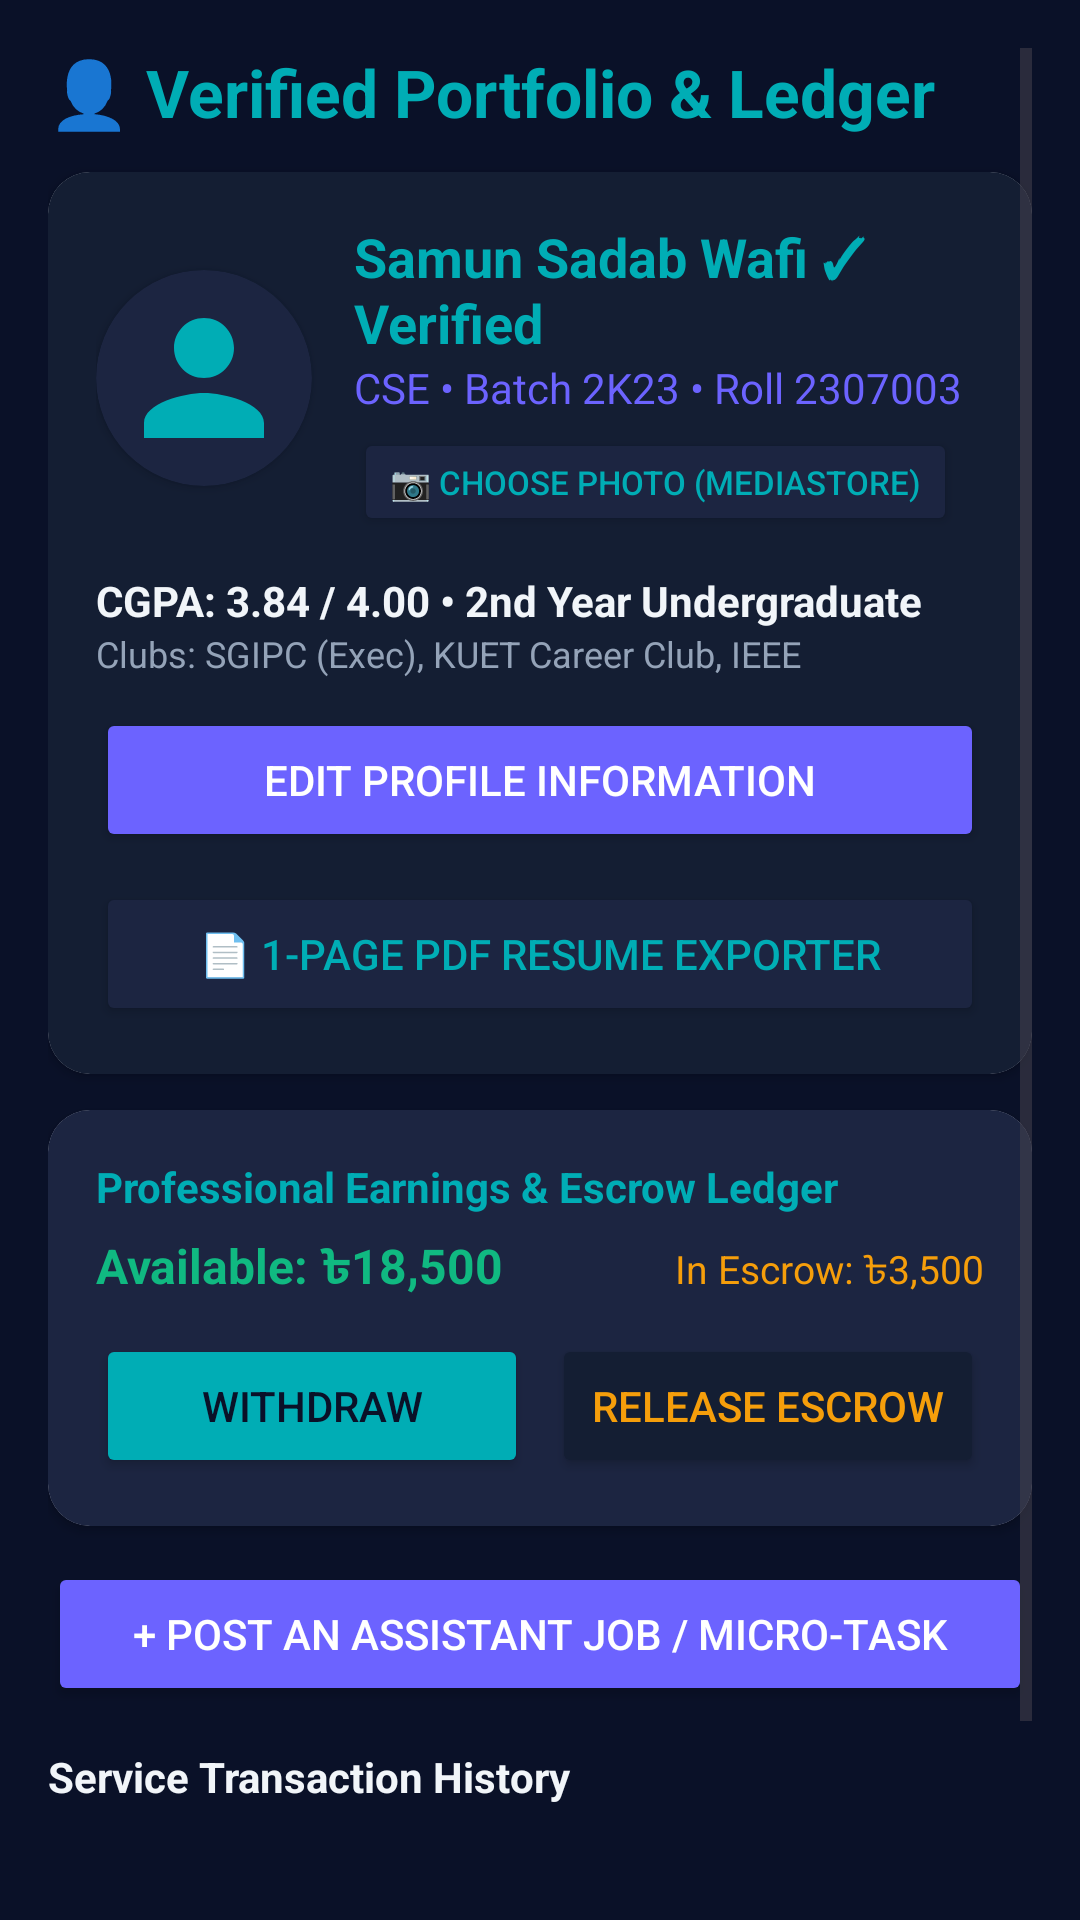

Where to tap for icons on this 1080 × 1920 app screen, as (x=x, y=y):
Profile Picture: (x=204, y=378)
